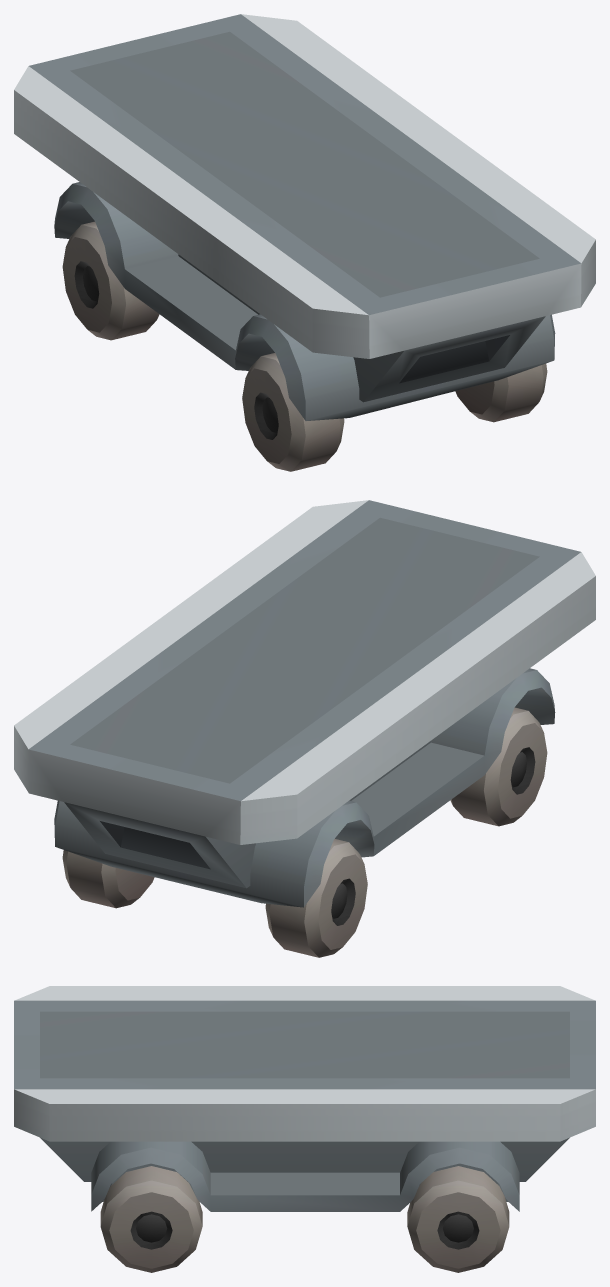
Rendered from kaykit-space-base-bits-spacetruck-trailer.glb.
3 renders of one model, top to bottom at view 1: azimuth 30°, elevation 25°; view 2: azimuth 150°, elevation 25°; view 3: azimuth 270°, elevation 25°, orthographic. The views are drawn at different scales.
Visible parts, largest first — view 1: Cube.15126, spacetruck_trailer_wheel_front_right, spacetruck_trailer_wheel_rear_right, spacetruck_trailer_wheel_front_left; view 2: Cube.15126, spacetruck_trailer_wheel_rear_right, spacetruck_trailer_wheel_front_right, spacetruck_trailer_wheel_rear_left; view 3: Cube.15126, spacetruck_trailer_wheel_front_left, spacetruck_trailer_wheel_rear_left.
Part boxes in pixels (left/top/right/bottom): Cube.15126: left=14, top=14, right=595, bottom=420; spacetruck_trailer_wheel_front_right: left=242, top=353, right=344, bottom=471; spacetruck_trailer_wheel_rear_right: left=62, top=221, right=159, bottom=340; spacetruck_trailer_wheel_front_left: left=455, top=363, right=547, bottom=422; Cube.15126: left=14, top=500, right=595, bottom=907; spacetruck_trailer_wheel_rear_right: left=265, top=839, right=367, bottom=957; spacetruck_trailer_wheel_front_right: left=450, top=707, right=547, bottom=826; spacetruck_trailer_wheel_rear_left: left=62, top=850, right=154, bottom=908; Cube.15126: left=14, top=986, right=595, bottom=1211; spacetruck_trailer_wheel_front_left: left=100, top=1166, right=202, bottom=1272; spacetruck_trailer_wheel_rear_left: left=407, top=1166, right=509, bottom=1272.
Size of the model in its own units: 0.48 by 0.3382 by 1.
1 material, 1 textured.
